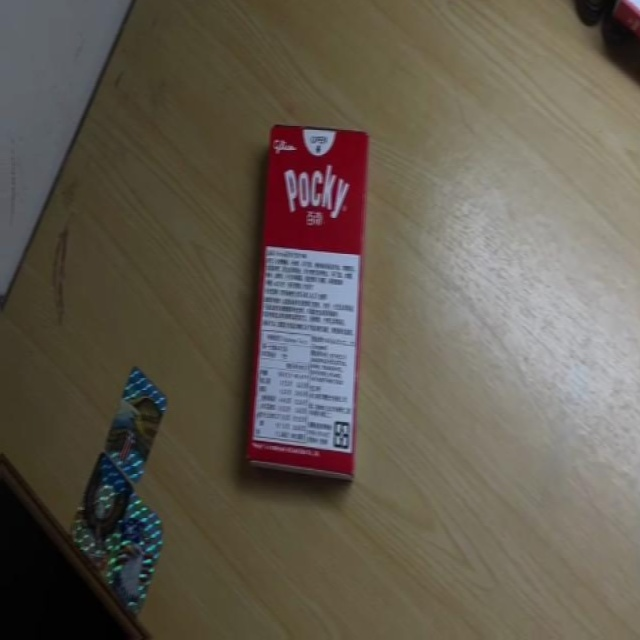Pocky: (246, 124, 368, 478)
